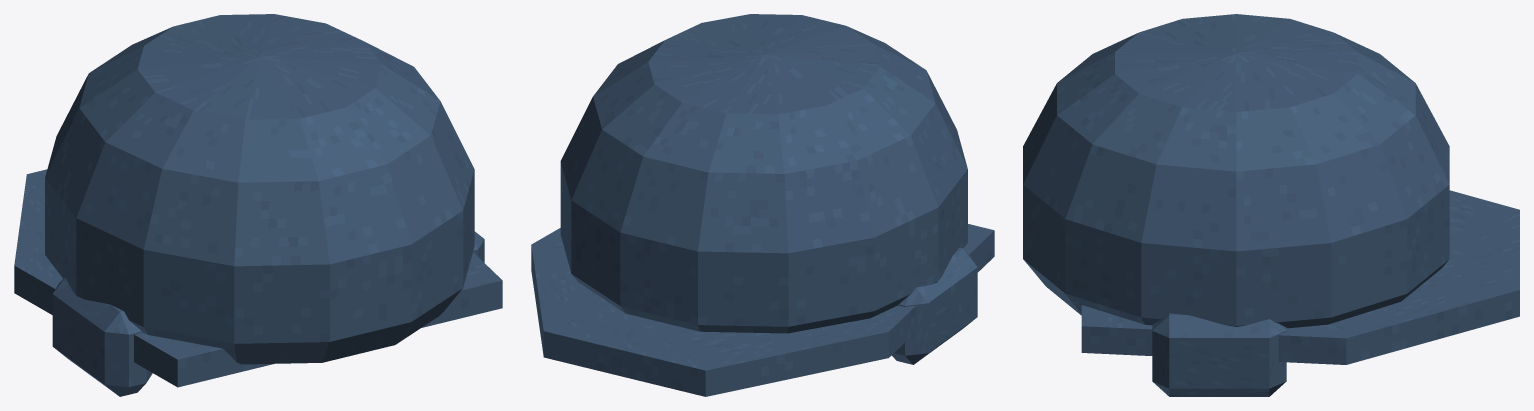
The model's file is helmet_ball.glb.
3 views of the same model, side by side, from view 1: azimuth 30°, elevation 25°; view 2: azimuth 150°, elevation 25°; view 3: azimuth 270°, elevation 25° (orthographic). The views are drawn at different scales.
Parts seen in each view (by area): view 1: block_helmet shell, block_helmet rim, block_ear flap; view 2: block_helmet shell, block_helmet rim, block_ear flap; view 3: block_helmet shell, block_helmet rim, block_ear flap.
Boxes of the visible parts, left/top/right/bottom form: block_helmet shell: left=45, top=14, right=474, bottom=364; block_helmet rim: left=14, top=169, right=502, bottom=387; block_ear flap: left=52, top=277, right=152, bottom=396; block_helmet shell: left=560, top=14, right=967, bottom=333; block_helmet rim: left=531, top=224, right=994, bottom=396; block_ear flap: left=892, top=247, right=977, bottom=364; block_helmet shell: left=1023, top=14, right=1449, bottom=328; block_helmet rim: left=1081, top=190, right=1519, bottom=364; block_ear flap: left=1152, top=313, right=1286, bottom=396.
Bounding box in the file's own units: 0.2581 × 0.1763 × 0.3037.
Materials: 1 (1 with a texture image).
